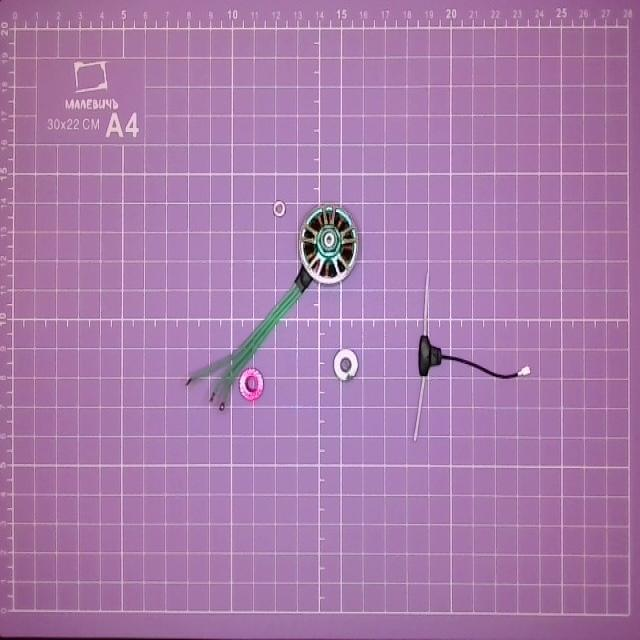antenna: (416, 271, 528, 439)
motor: (190, 201, 358, 412)
screw_M3: (265, 192, 290, 223)
screw_M5: (332, 346, 361, 387), (240, 364, 264, 406)
